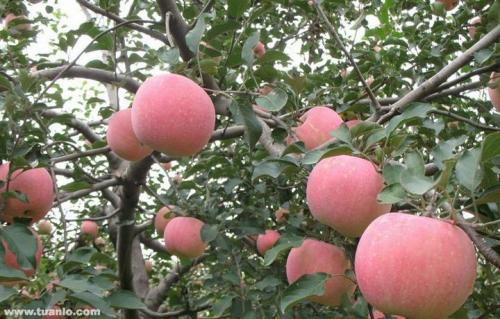apple: (353, 213, 478, 318), (131, 70, 215, 157), (164, 217, 208, 257)
obscured(0)_apple: (306, 154, 393, 239), (287, 238, 358, 307)
obscured(1)_apple: (107, 109, 160, 161)
